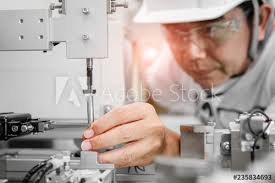Person_wearing_helmet: (136, 0, 270, 55)
